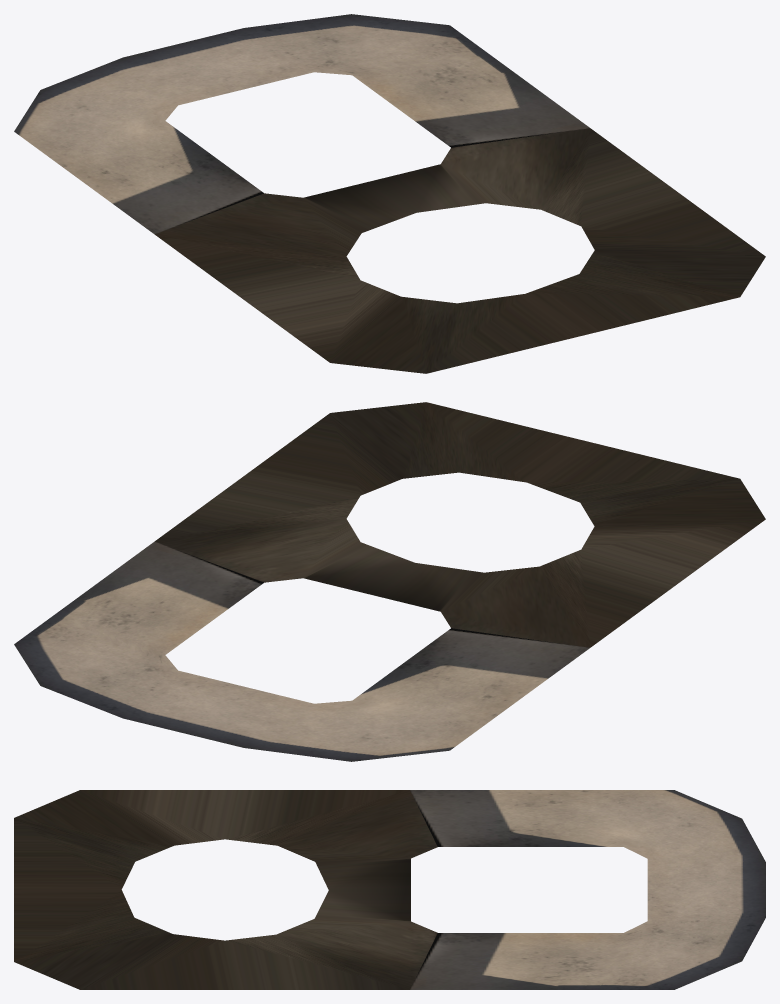
File: FloorNav_mesh.glb
3 views of the same model, one above another, from view 1: azimuth 30°, elevation 25°; view 2: azimuth 150°, elevation 25°; view 3: azimuth 270°, elevation 25° (orthographic). The views are drawn at different scales.
Visible parts, largest first — view 1: FloorNav_mesh; view 2: FloorNav_mesh; view 3: FloorNav_mesh.
Boxes of the visible parts, <box> form: FloorNav_mesh: <box>14,14,765,373</box>; FloorNav_mesh: <box>14,402,765,761</box>; FloorNav_mesh: <box>14,790,765,989</box>.
Size of the model in its own units: 14 by 6.85e-07 by 22.25.
1 material, 1 textured.
